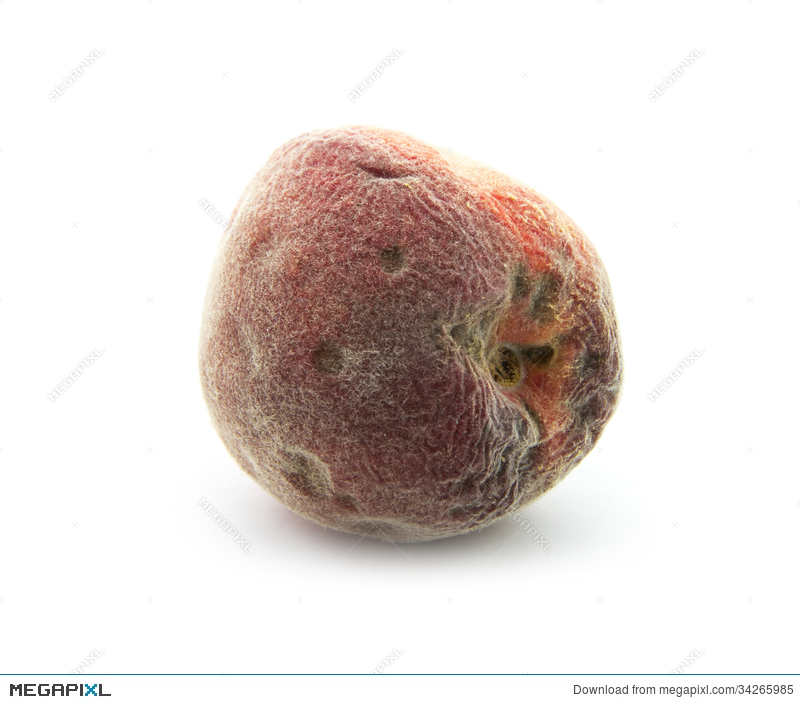damaged_peach: (205, 124, 620, 540)
